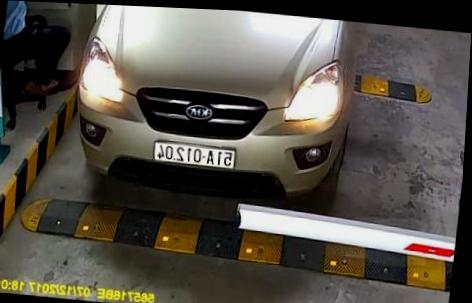License_Plate: (147, 143, 242, 171)
